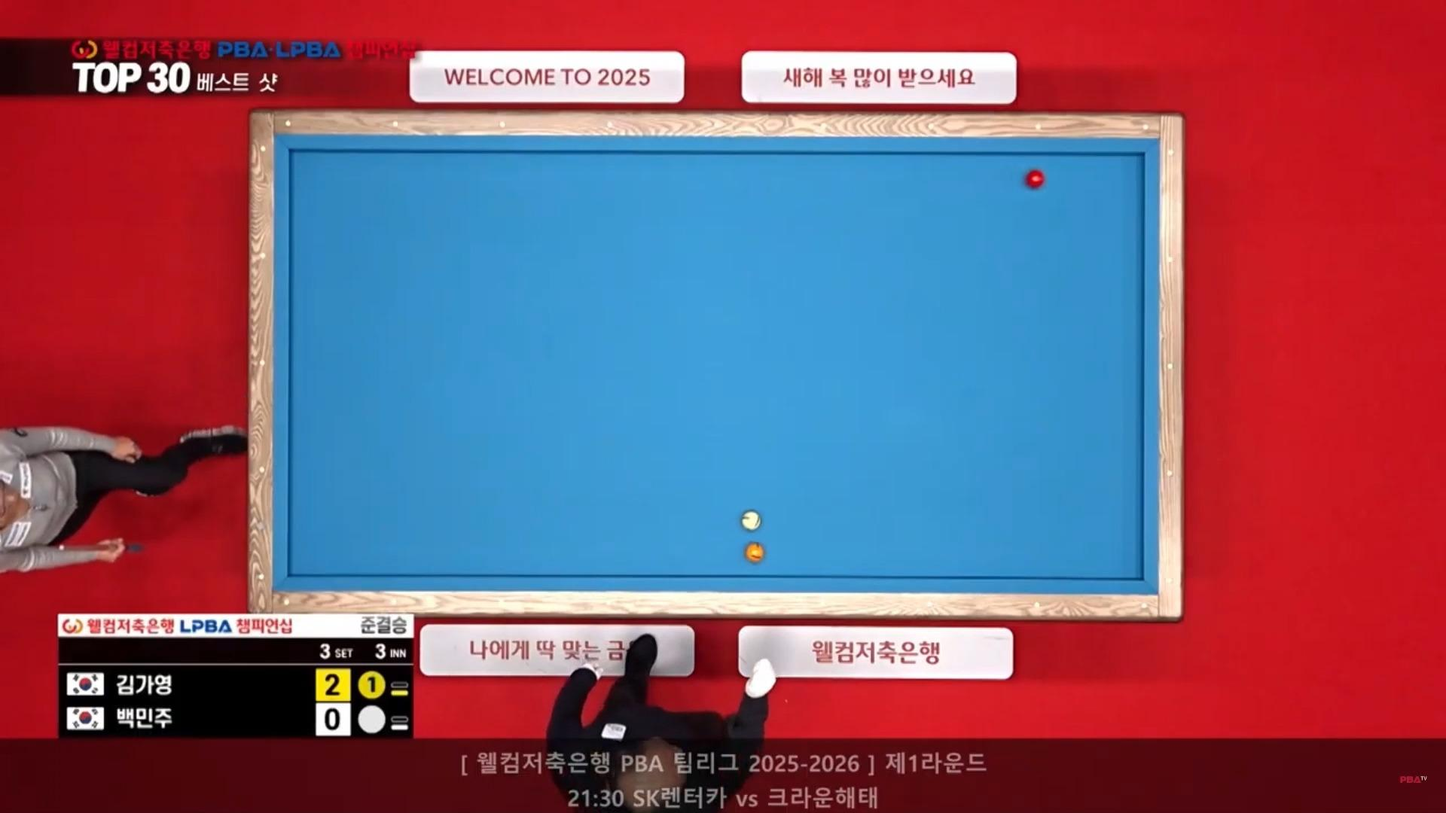Red: (1025, 171, 1048, 189)
White: (738, 514, 761, 532)
Yellow: (743, 543, 765, 562)
